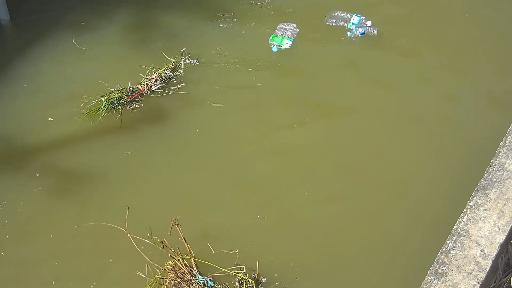plastic: (256, 19, 311, 61), (319, 9, 368, 28), (351, 30, 385, 39)
twig: (86, 203, 289, 288), (56, 42, 203, 131)
